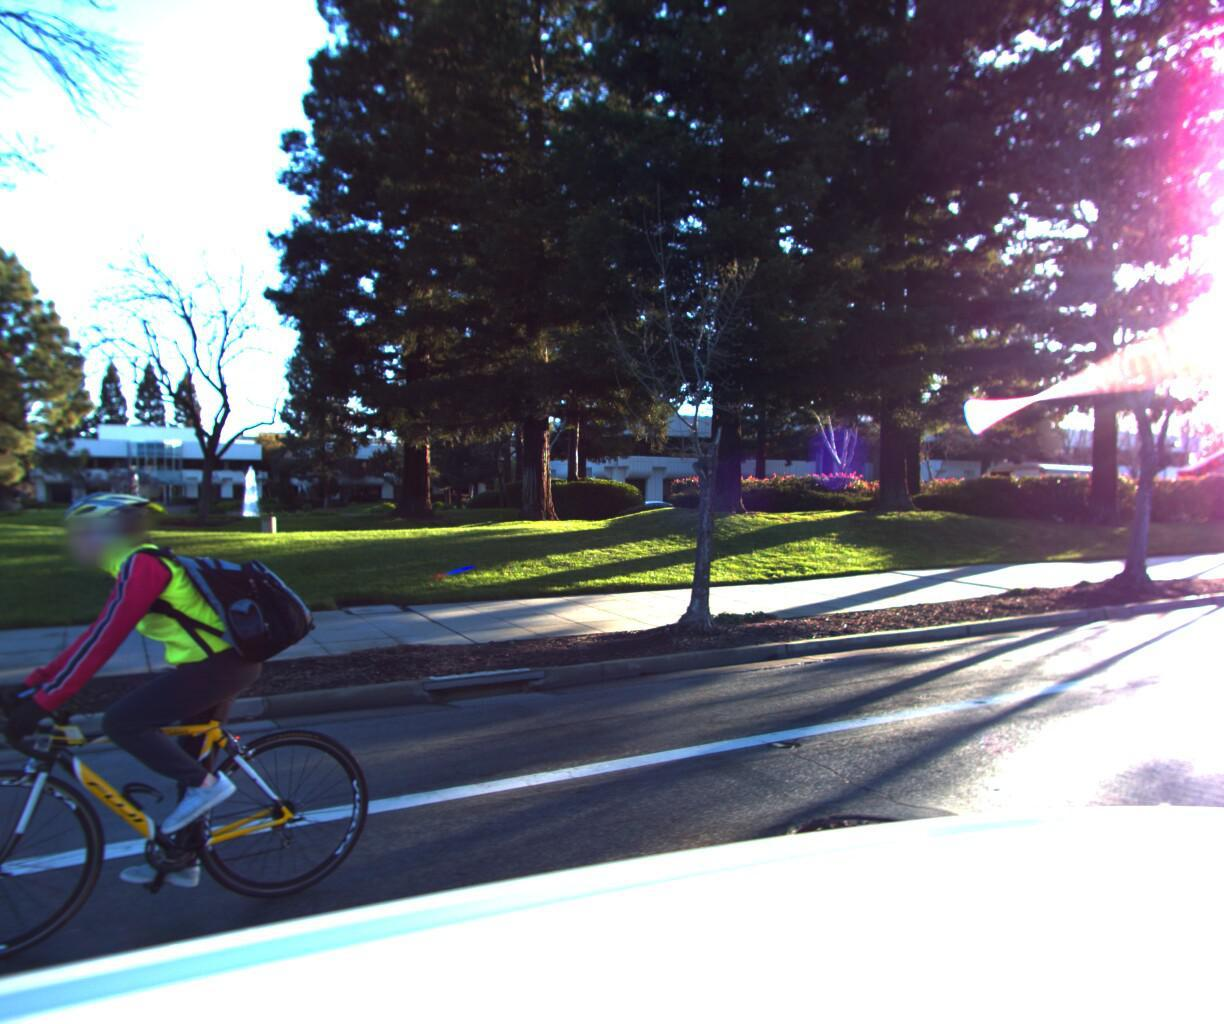bicycle: (0, 438, 400, 1024)
other_vehicle: (1148, 408, 1224, 524)
